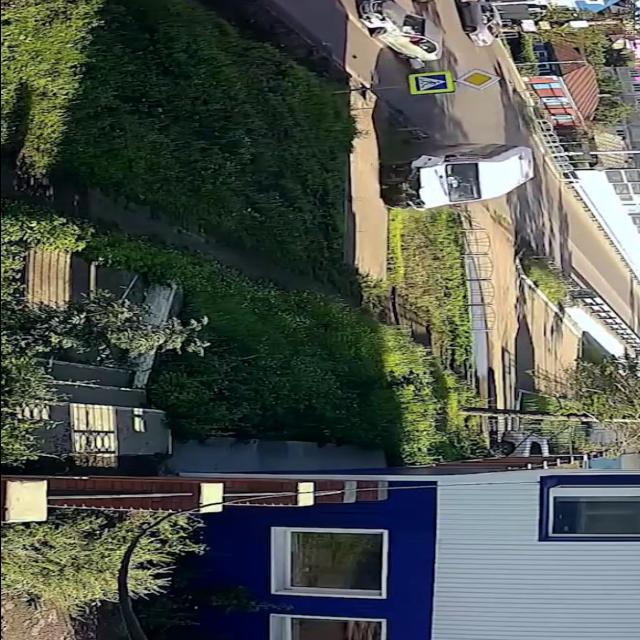accident: (372, 135, 544, 213), (349, 0, 459, 69)
